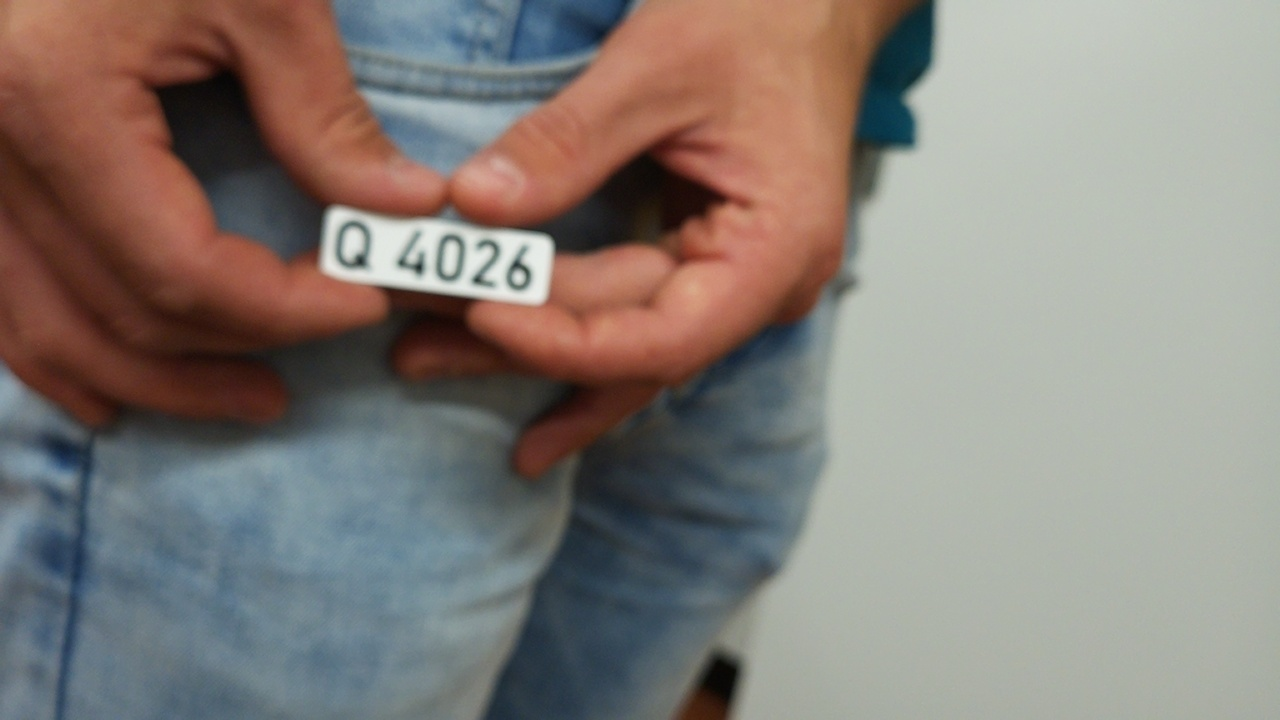license_plate: (317, 200, 556, 307)
